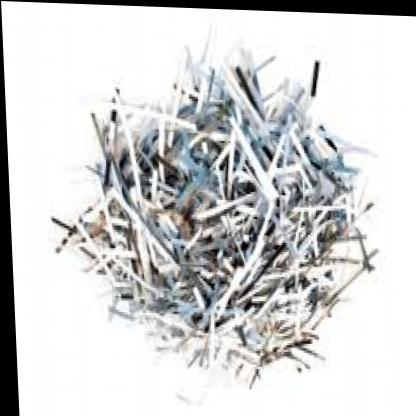Paper: (24, 32, 408, 389)
